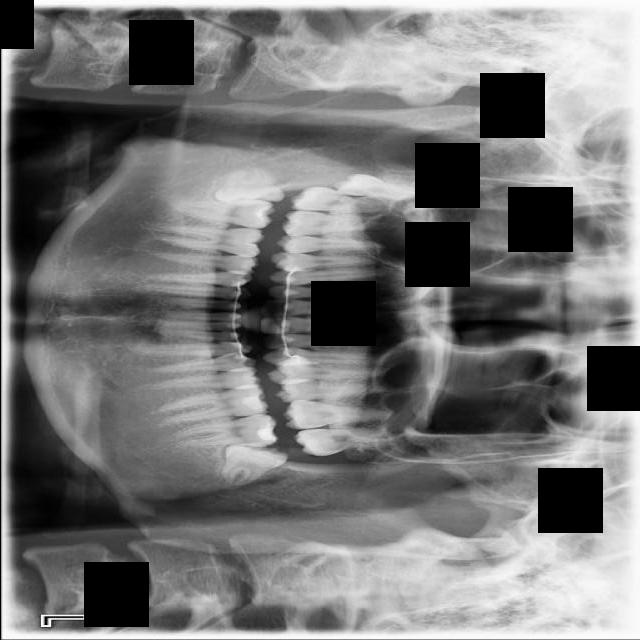3M ESPE Implant: (332, 171, 427, 202)
52: (231, 192, 277, 235), (233, 411, 281, 452), (225, 380, 269, 422)
73: (72, 590, 78, 593)
BioHorizons Implant: (293, 425, 414, 457)
Biomet 3i Implant: (216, 438, 290, 489)
Blue Sky Bio Implant: (164, 413, 279, 452)
Caries: (289, 186, 400, 215)
Implant: (166, 199, 275, 229)
Keystone Dental Implant: (211, 164, 285, 209)
